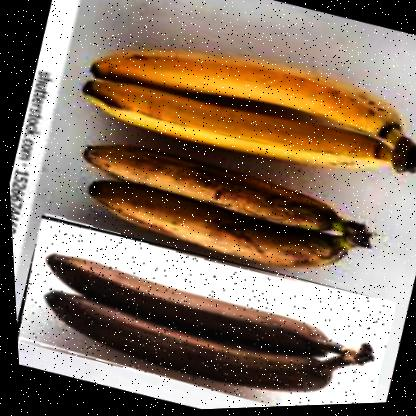banana_rotten: (9, 205, 397, 415)
